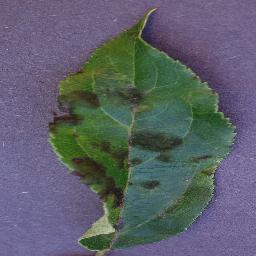apple healthy: (46, 6, 237, 255)
